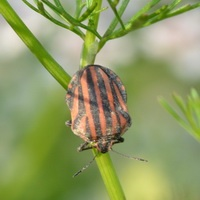insect: (66, 65, 130, 152)
